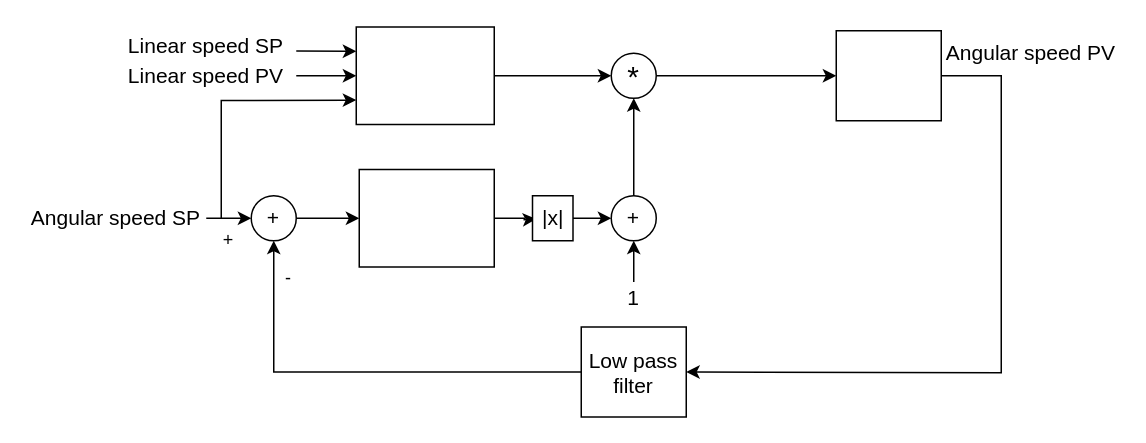
This 1146x443 diagram has some shape labels left out. Here are the shapes that lost their labels. From the top down, the centre of each, then its label:
At (x=424, y=75): "Yaw controller".
At (x=888, y=75): "Angular velocity model".
At (x=426, y=217): "Angular velocity PID controller".
